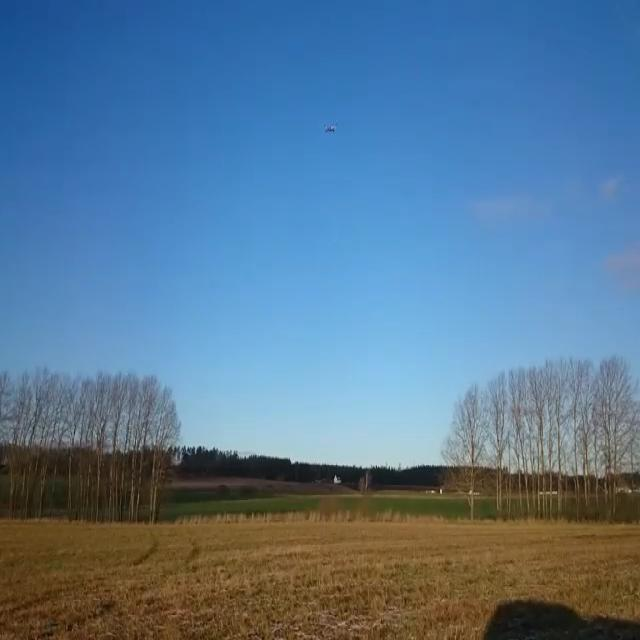Drone: (316, 115, 348, 143)
